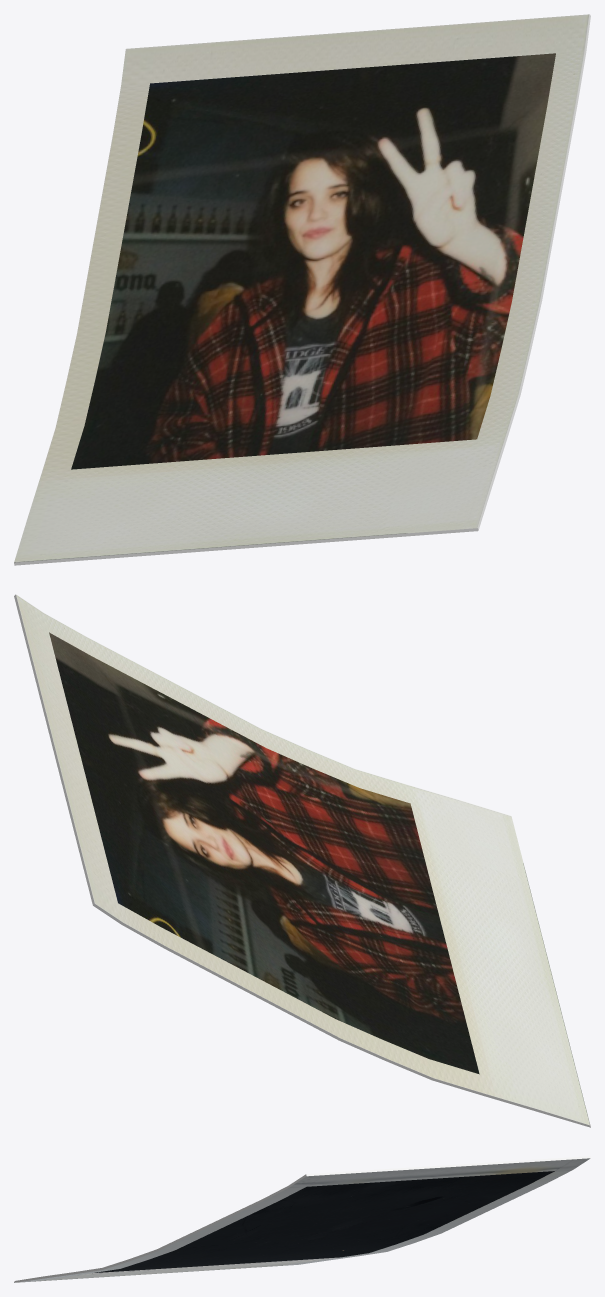
File: polaroid_photo.glb
3 views of the same model, one above another, from view 1: azimuth 30°, elevation 25°; view 2: azimuth 150°, elevation 25°; view 3: azimuth 270°, elevation 25° (orthographic). The views are drawn at different scales.
Visible parts, largest first — view 1: Object_3, Object_5; view 2: Object_3, Object_5; view 3: Object_4, Object_5.
Part boxes in pixels (x1,y1,x2,y2): Object_3: [71, 53, 555, 469]; Object_5: [14, 14, 590, 565]; Object_3: [49, 632, 479, 1074]; Object_5: [14, 594, 590, 1127]; Object_4: [95, 1171, 554, 1272]; Object_5: [14, 1156, 590, 1282].
Size of the model in its own units: 9.52 by 6.34 by 11.03.
3 materials, 3 textured.
